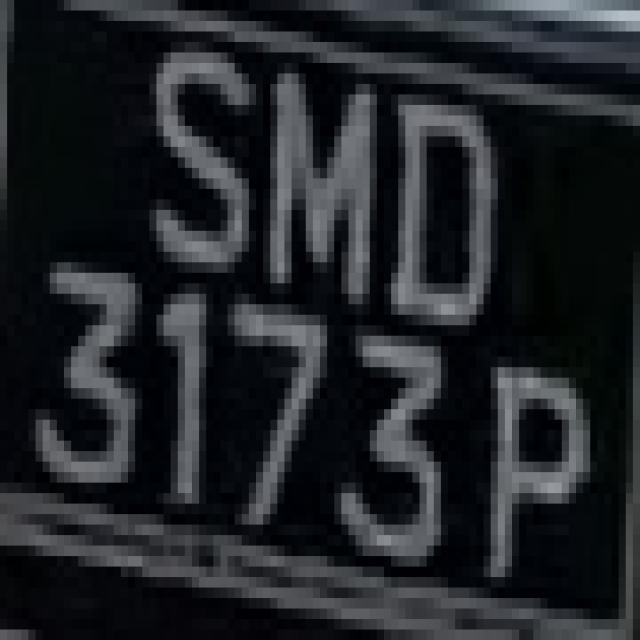1: (150, 252, 220, 546)
3: (7, 220, 142, 525), (348, 284, 462, 608)
7: (213, 262, 334, 567)
D: (370, 94, 512, 336)
M: (249, 63, 391, 315)
P: (476, 346, 604, 630)
S: (135, 21, 263, 294)
